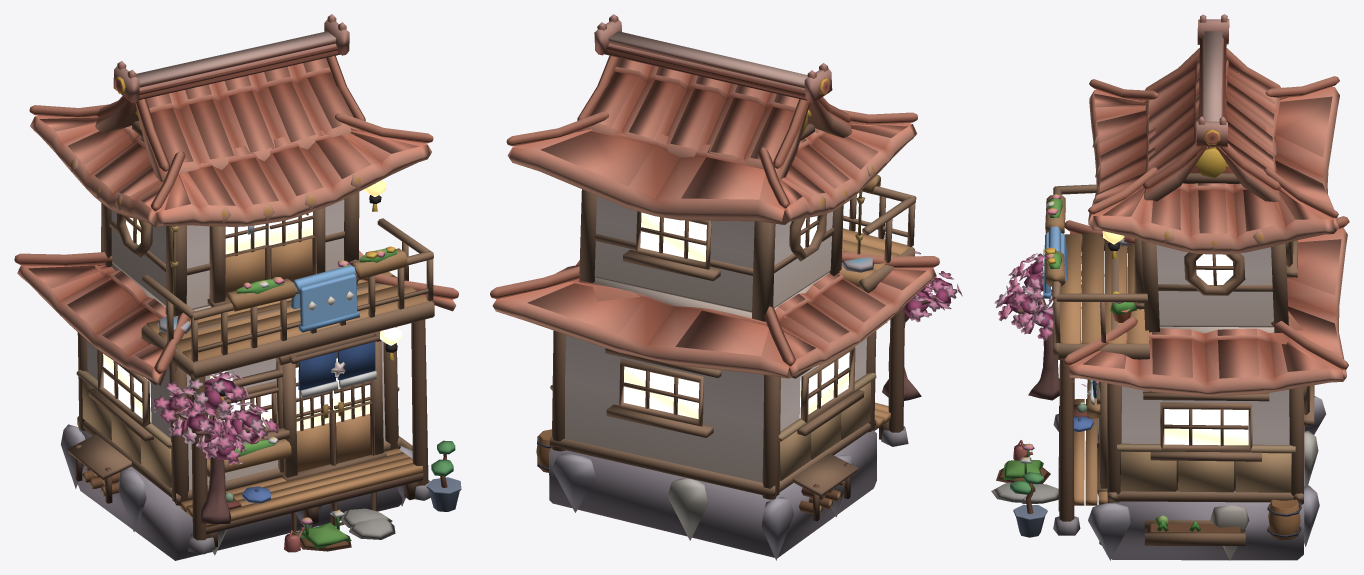
File: home-3-v5.glb
3 renders of one model, left to right at view 1: azimuth 30°, elevation 25°; view 2: azimuth 150°, elevation 25°; view 3: azimuth 270°, elevation 25°, orthographic. The views are drawn at different scales.
Visible parts, largest first — view 1: home-3-v5, window_glow; view 2: home-3-v5, window_glow; view 3: home-3-v5, window_glow.
Boxes of the visible parts, x1,y1,x2,y2 form: home-3-v5: (14, 14, 461, 560); window_glow: (103, 180, 401, 430); home-3-v5: (490, 14, 962, 560); window_glow: (623, 212, 849, 418); home-3-v5: (991, 14, 1349, 560); window_glow: (1081, 231, 1248, 445).
Size of the model in its own units: 3.25 by 4.65 by 3.42.
